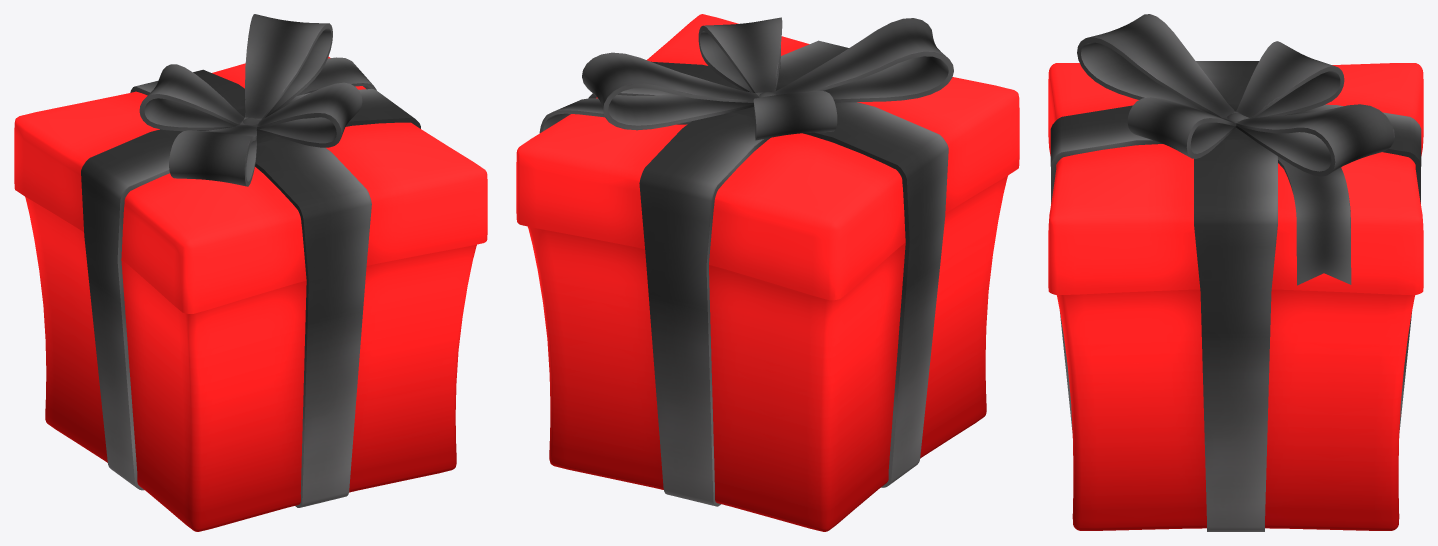
Rendered from gift-box.glb.
3 renders of one model, left to right at view 1: azimuth 30°, elevation 25°; view 2: azimuth 150°, elevation 25°; view 3: azimuth 270°, elevation 25°, orthographic. The views are drawn at different scales.
Parts seen in each view (by area): view 1: gift; view 2: gift; view 3: gift.
Boxes of the visible parts, x1=… form: gift: x1=14, y1=14, x2=487, y2=531; gift: x1=516, y1=14, x2=1019, y2=531; gift: x1=1048, y1=14, x2=1423, y2=531.
Bounding box in the file's own units: 0.0623 × 0.0702 × 0.0603.
1 material, 1 textured.
